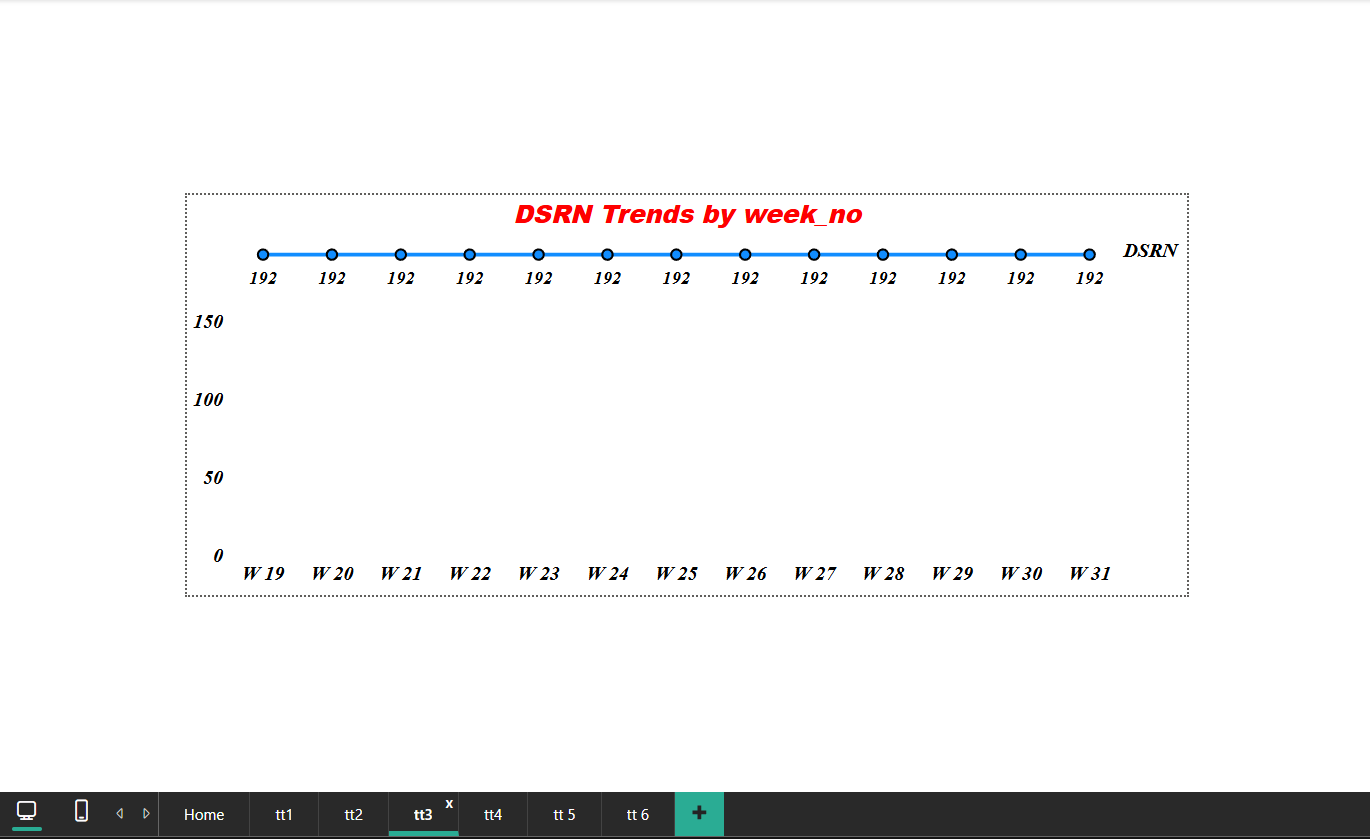

What the dashboard file says about the page in this screenshot:
{"tool":"powerbi","page":{"name":"tt3","canvas":[800,320],"ordinal":3},"visuals":[{"type":"lineChart","title":"DSRN Trends by week_no","fields":{"Y":["Imp measures.DSRN"],"Category":["dim_date.week_no"]},"box":[0,0,800,320],"z":0}]}

Visuals, with their boxes on the page's 800x320 design canvas (x1, y1, x2, y2). These are canvas units, not pixel positions in the 1370x839 screenshot, which may show the page scaled, cropped or inside an application window:
"DSRN Trends by week_no" lineChart: [0,0,800,320]
